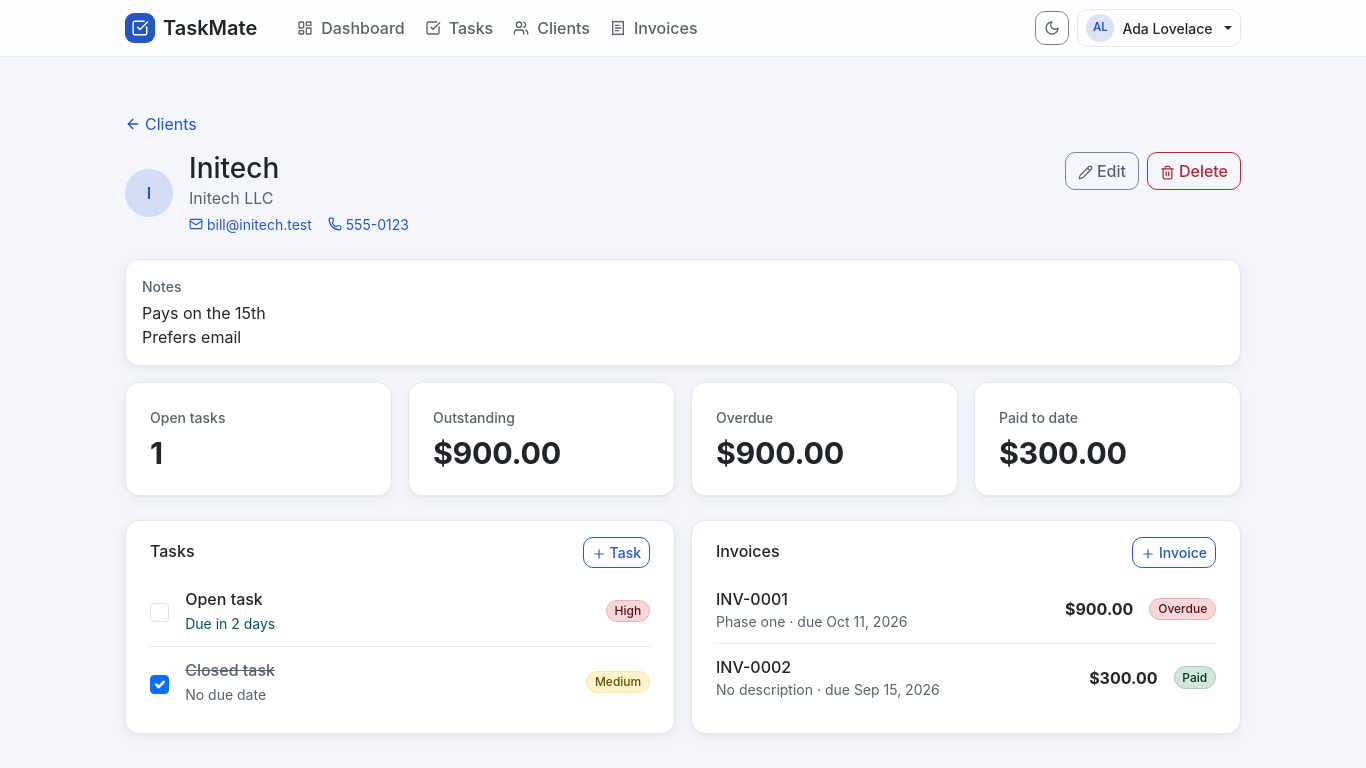
Client detail page › creates an invoice for this client and shows it in the list
Click the button "Invoice" at (1174, 552), box top-left (1132, 536), bottom-right (1216, 568)
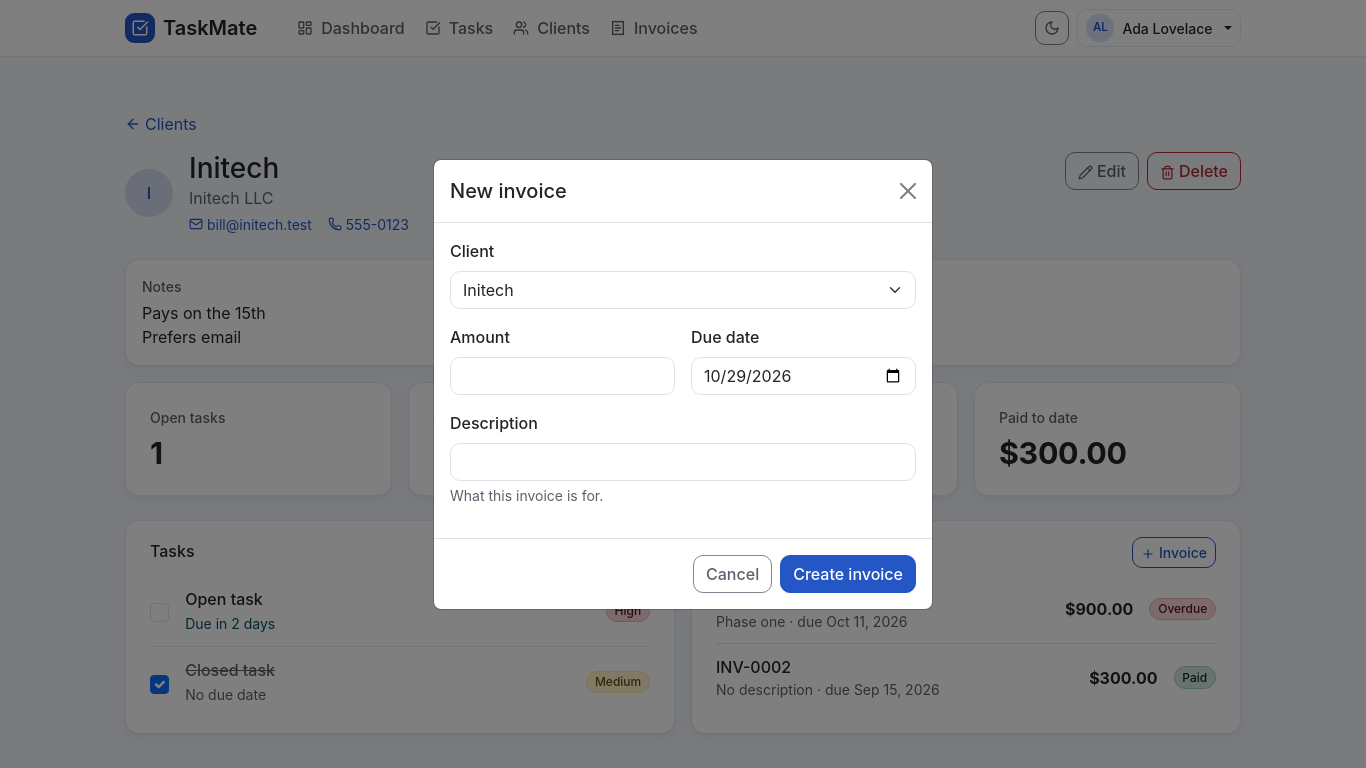
Type "1250.5" into the number field labelled "Amount" at (562, 376), box top-left (450, 356), bottom-right (675, 394)
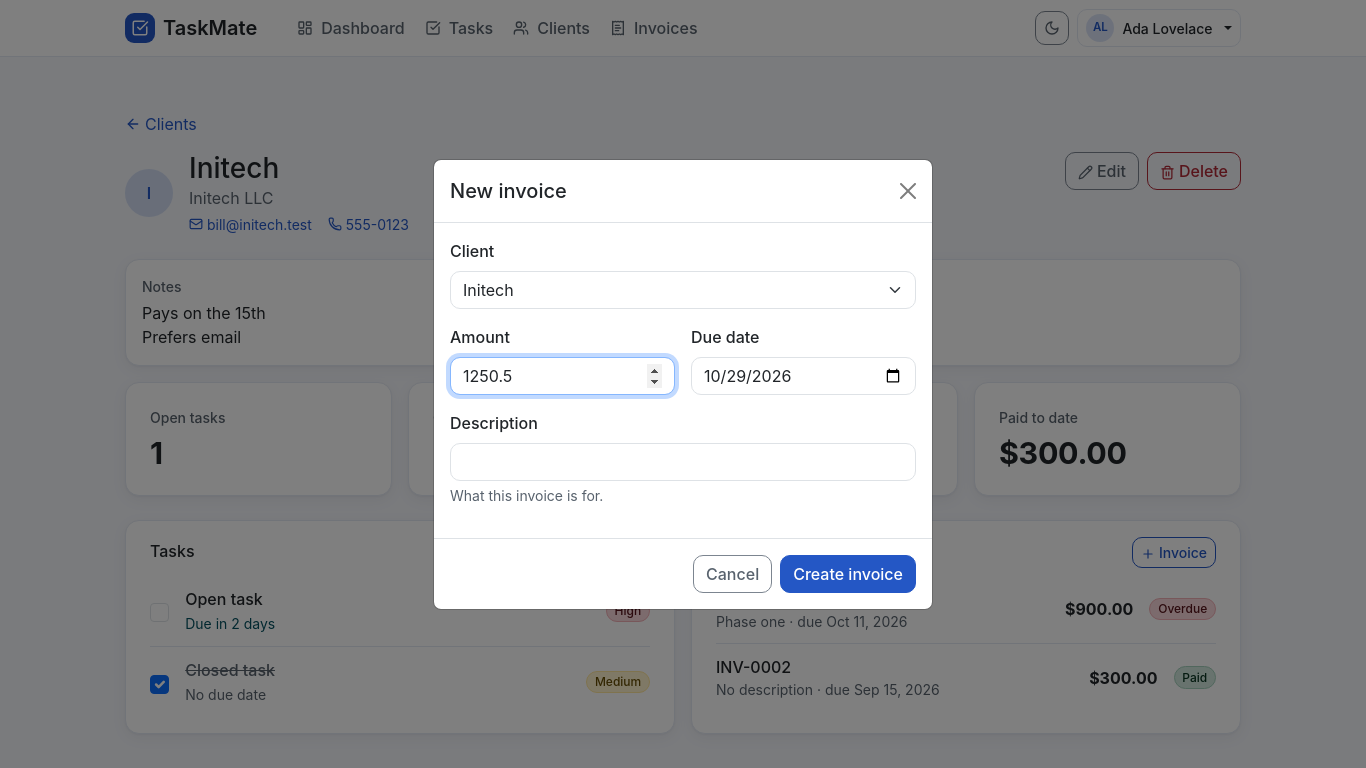
Type "Phase two" into the field labelled "Description" at (683, 462), box top-left (450, 442), bottom-right (916, 480)
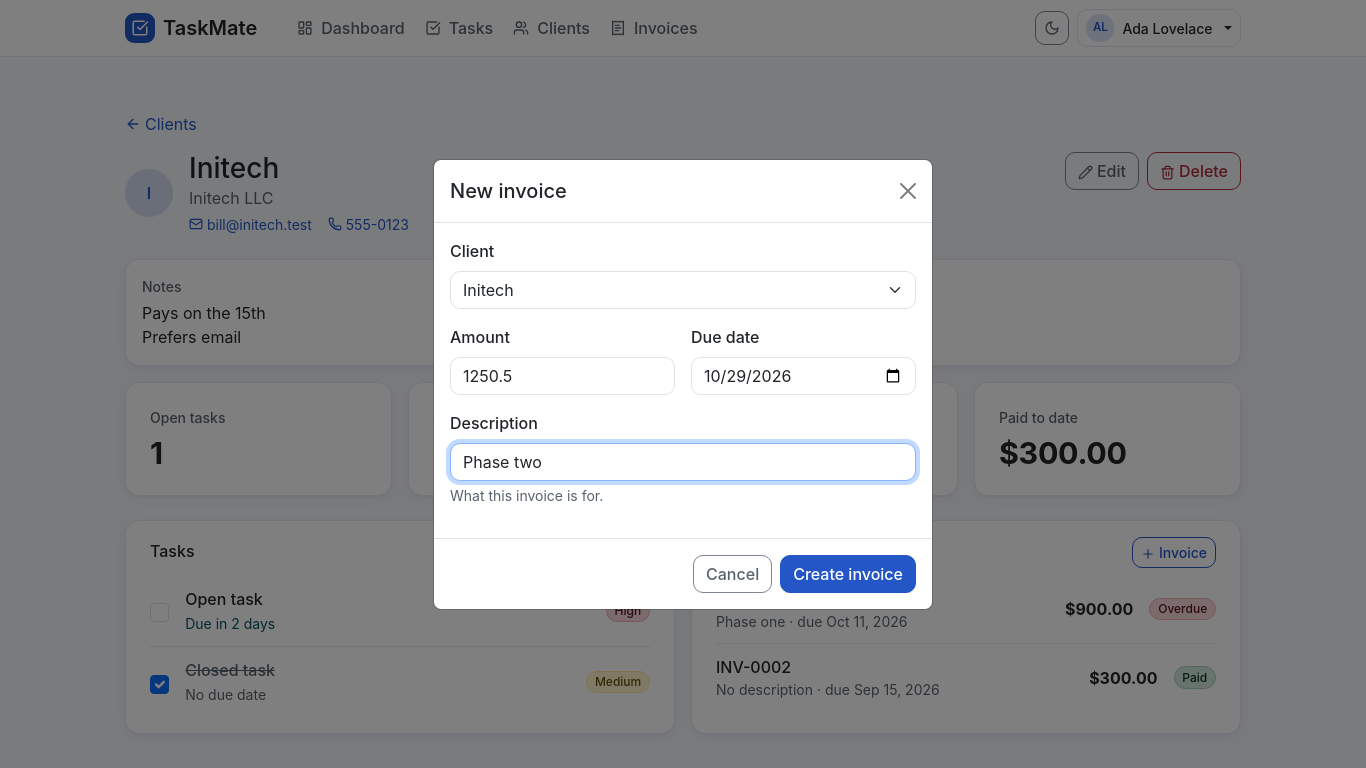
Click the button "Create invoice" at (848, 574), box top-left (780, 554), bottom-right (916, 592)
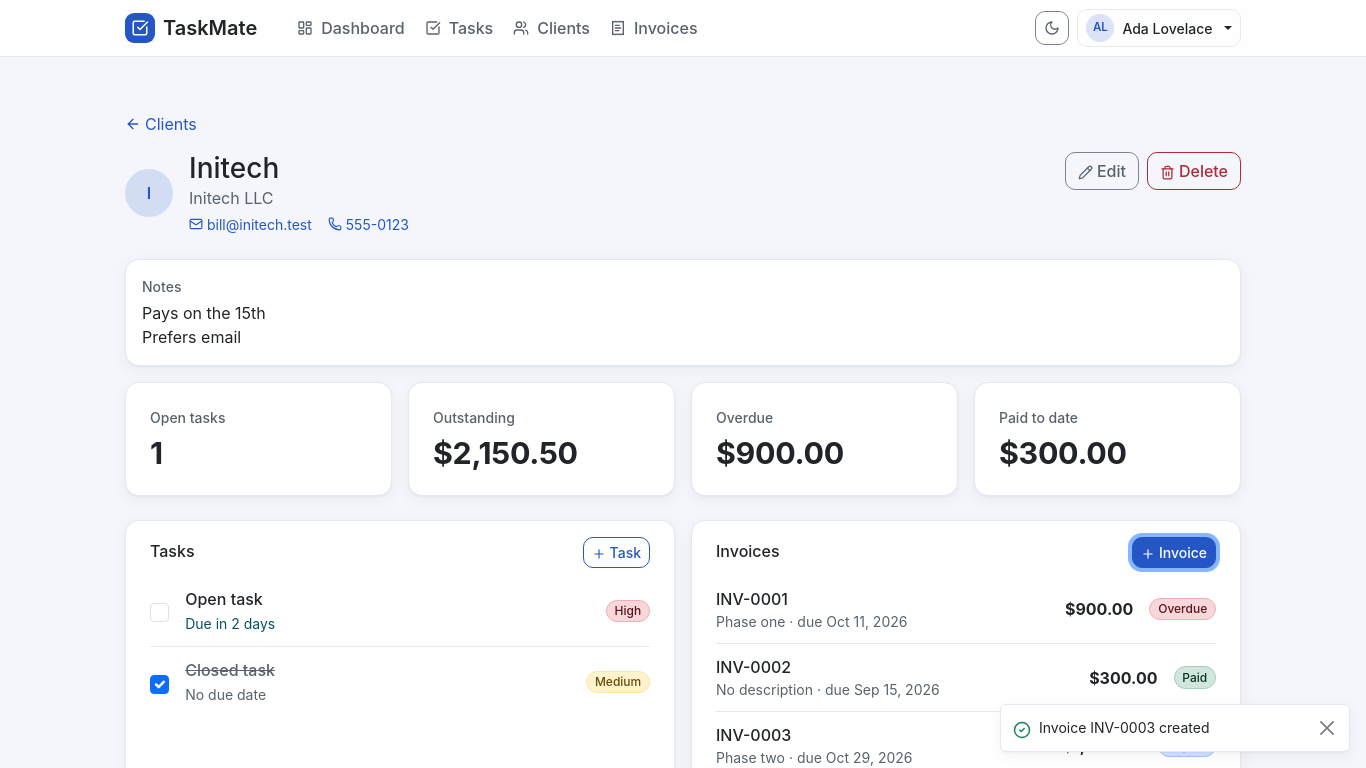
Expected: the text "Invoice INV-0003 created" is shown, top-left (1039, 719), bottom-right (1210, 736)
Expected: the link "INV-0003" is shown, top-left (716, 726), bottom-right (791, 746)
Expected: the text "Outstanding" shows "$2,150.50", top-left (433, 435), bottom-right (578, 471)
